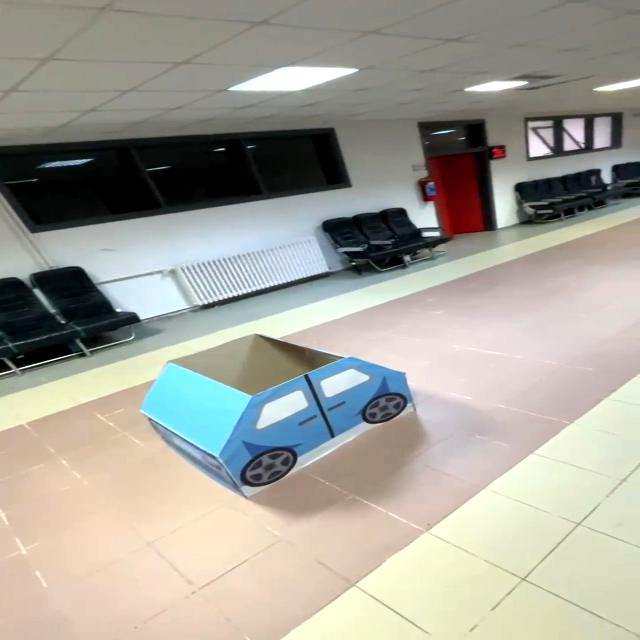blue_car: (121, 326, 439, 500)
